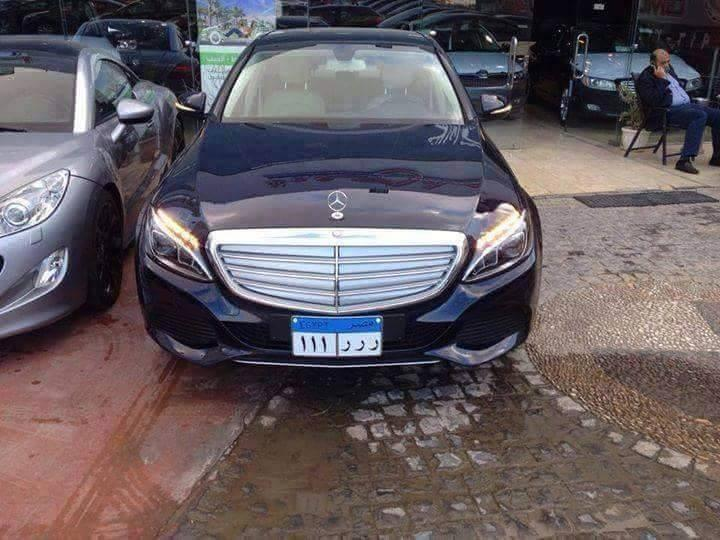1: (320, 335, 328, 354), (299, 334, 307, 352), (310, 334, 317, 354)
License Plate: (289, 314, 384, 359)
R: (340, 337, 352, 353), (367, 337, 379, 352), (355, 338, 365, 352)
car: (141, 31, 540, 386), (3, 35, 166, 344), (549, 15, 651, 127)
